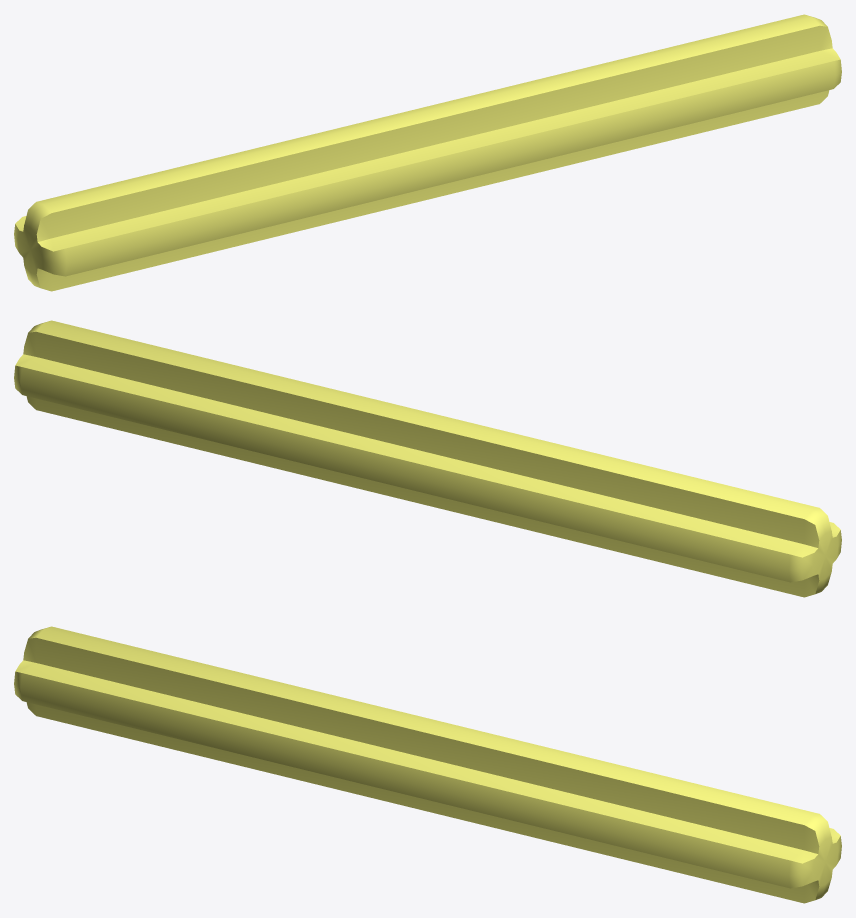
3 renders of one model, top to bottom at view 1: azimuth 30°, elevation 25°; view 2: azimuth 150°, elevation 25°; view 3: azimuth 330°, elevation 25°, orthographic.
Parts seen in each view (by area): view 1: 3706.dat; view 2: 3706.dat; view 3: 3706.dat.
Boxes of the visible parts, x1=… form: 3706.dat: x1=14, y1=14, x2=841, y2=291; 3706.dat: x1=14, y1=320, x2=841, y2=597; 3706.dat: x1=14, y1=626, x2=841, y2=903.
Bounding box in the file's own units: 0.0476 × 0.0048 × 0.0048.
